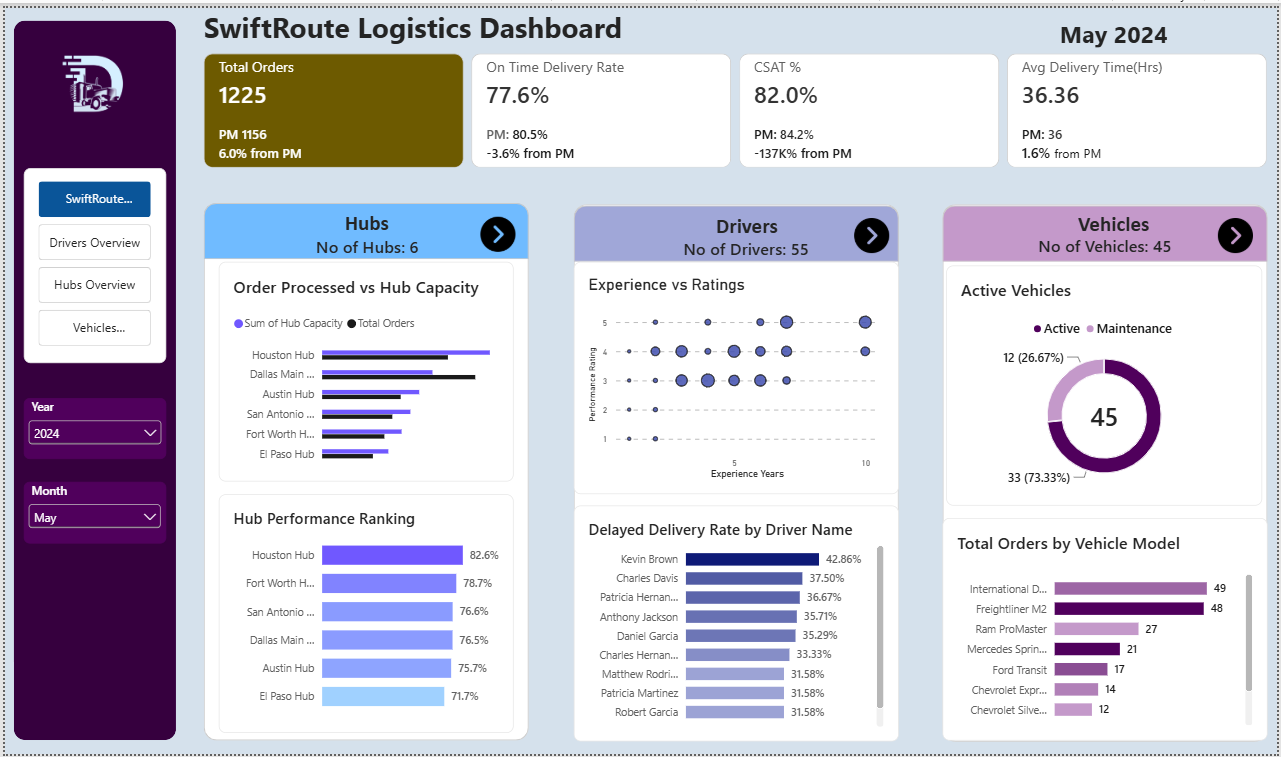

The page's visual inventory and layout, read from the dashboard file:
{"tool":"powerbi","page":{"name":"SwiftRoute Logistics Dashboards","canvas":[1450,850],"ordinal":0},"visuals":[{"type":"shape","box":[10,14.2,185,820],"z":0},{"type":"textbox","box":[227.1,0,562.6,58.4],"z":1000},{"type":"cardVisual","fields":{"Data":["Orders.Total Orders","Orders.On Time Delivery Rate","Orders.CSAT %","Orders.Avg Delivery Time(Hrs)"]},"box":[226.5,47,1212.1,135.3],"z":2000},{"type":"slicer","fields":{"Values":["Date Table.Year"]},"box":[21.4,444.4,162.4,69.8],"z":3000},{"type":"slicer","fields":{"Values":["Date Table.Month"]},"box":[21.4,539.8,162,70],"z":4000},{"type":"shape","box":[226.5,222.2,370.3,612.4],"z":5000},{"type":"shape","box":[226.5,222.2,370.3,64.1],"z":6000},{"type":"textbox","box":[262.1,229.3,300.5,59.8],"z":7000},{"type":"cardVisual","fields":{"Data":["Hubs.No of Hubs"]},"box":[659.4,514.2,185.7,52.9],"z":8000},{"type":"clusteredBarChart","title":"Order Processed vs Hub Capacity","fields":{"Category":["Hubs.HubName"],"Y":["Sum(Hubs.Hub Capacity)","Orders.Total Orders"]},"box":[243.6,289.1,336.1,250.7],"z":9000},{"type":"barChart","title":"Hub Performance Ranking","fields":{"Category":["Hubs.HubName"],"Y":["Orders.On Time Delivery Rate"]},"box":[243.6,551.2,336.1,272],"z":10000},{"type":"shape","box":[648,223.6,370.3,611],"z":10500},{"type":"shape","box":[648,225,370.3,64.1],"z":11000},{"type":"shape","box":[1068.2,223.6,370.3,612.4],"z":13750},{"type":"shape","box":[1068.2,225,370.3,64.1],"z":14000},{"type":"textbox","box":[694.7,233.3,300.5,59.8],"z":15000},{"type":"cardVisual","fields":{"Data":["Hubs.No of Hubs"]},"box":[320.5,254.9,185.2,31.3],"z":16000},{"type":"cardVisual","fields":{"Data":["Drivers.No of Drivers"]},"box":[752,257.8,185.2,32.8],"z":16001},{"type":"scatterChart","title":"Experience vs Ratings","fields":{"Size":["Sum(Drivers.Experience Years)"],"X":["Drivers.Experience Years"],"Y":["Drivers.Performance Rating"]},"box":[648,289.1,370.3,264.9],"z":16002},{"type":"barChart","fields":{"Category":["Orders.Driver Name"],"Y":["Orders.Delayed Delivery Rate"]},"box":[648,566.9,370.3,269.2],"z":16003},{"type":"textbox","box":[1136,230.7,253.3,56],"z":16004},{"type":"cardVisual","fields":{"Data":["Vehicles.No of Vehicles"]},"box":[1161.3,253.3,185.2,32.8],"z":16005},{"type":"donutChart","title":"Active Vehicles","fields":{"Category":["Vehicles.Vehicle Status"],"Y":["CountNonNull(Vehicles.Vehicle ID)"]},"box":[1072.5,293.4,360.3,273.5],"z":16006},{"type":"barChart","fields":{"Category":["Vehicles.Vehicle Model"],"Y":["Orders.Total Orders"]},"box":[1068.2,581.1,370.3,253.5],"z":16007},{"type":"image","box":[35.6,47,131,84],"z":16008},{"type":"cardVisual","fields":{"Data":["Orders.Year Month Title"]},"box":[1170.8,12.8,185.2,32.8],"z":16009}]}

Visuals, with their boxes in screenshot pixels (x1, y1, x2, y2), scaled from the page's 1450x850 canvas onto the 1281x757 screenshot:
shape: locate(9, 13, 172, 743)
textbox: locate(201, 0, 698, 52)
cardVisual - Orders.Total Orders x Orders.On Time Delivery Rate: locate(200, 42, 1271, 162)
slicer - Date Table.Year: locate(19, 396, 162, 458)
slicer - Date Table.Month: locate(19, 481, 162, 543)
shape: locate(200, 198, 527, 743)
shape: locate(200, 198, 527, 255)
textbox: locate(232, 204, 497, 257)
cardVisual - Hubs.No of Hubs: locate(583, 458, 747, 505)
"Order Processed vs Hub Capacity" clusteredBarChart: locate(215, 257, 512, 481)
"Hub Performance Ranking" barChart: locate(215, 491, 512, 733)
shape: locate(572, 199, 900, 743)
shape: locate(572, 200, 900, 257)
shape: locate(944, 199, 1271, 745)
shape: locate(944, 200, 1271, 257)
textbox: locate(614, 208, 879, 261)
cardVisual - Hubs.No of Hubs: locate(283, 227, 447, 255)
cardVisual - Drivers.No of Drivers: locate(664, 230, 828, 259)
"Experience vs Ratings" scatterChart: locate(572, 257, 900, 493)
barChart - Orders.Driver Name x Orders.Delayed Delivery Rate: locate(572, 505, 900, 745)
textbox: locate(1004, 205, 1227, 255)
cardVisual - Vehicles.No of Vehicles: locate(1026, 226, 1190, 255)
"Active Vehicles" donutChart: locate(947, 261, 1266, 505)
barChart - Vehicles.Vehicle Model x Orders.Total Orders: locate(944, 518, 1271, 743)
image: locate(31, 42, 147, 117)
cardVisual - Orders.Year Month Title: locate(1034, 11, 1198, 41)
